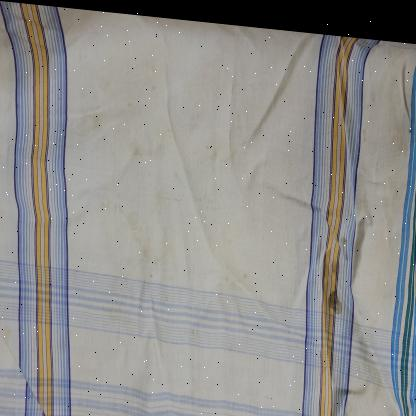spot: (98, 195, 162, 274), (129, 135, 161, 162), (322, 279, 346, 315), (338, 226, 356, 260), (90, 106, 108, 137), (149, 75, 165, 103), (204, 136, 219, 159), (184, 320, 199, 337), (239, 264, 253, 280), (222, 261, 233, 279), (172, 161, 182, 178)
